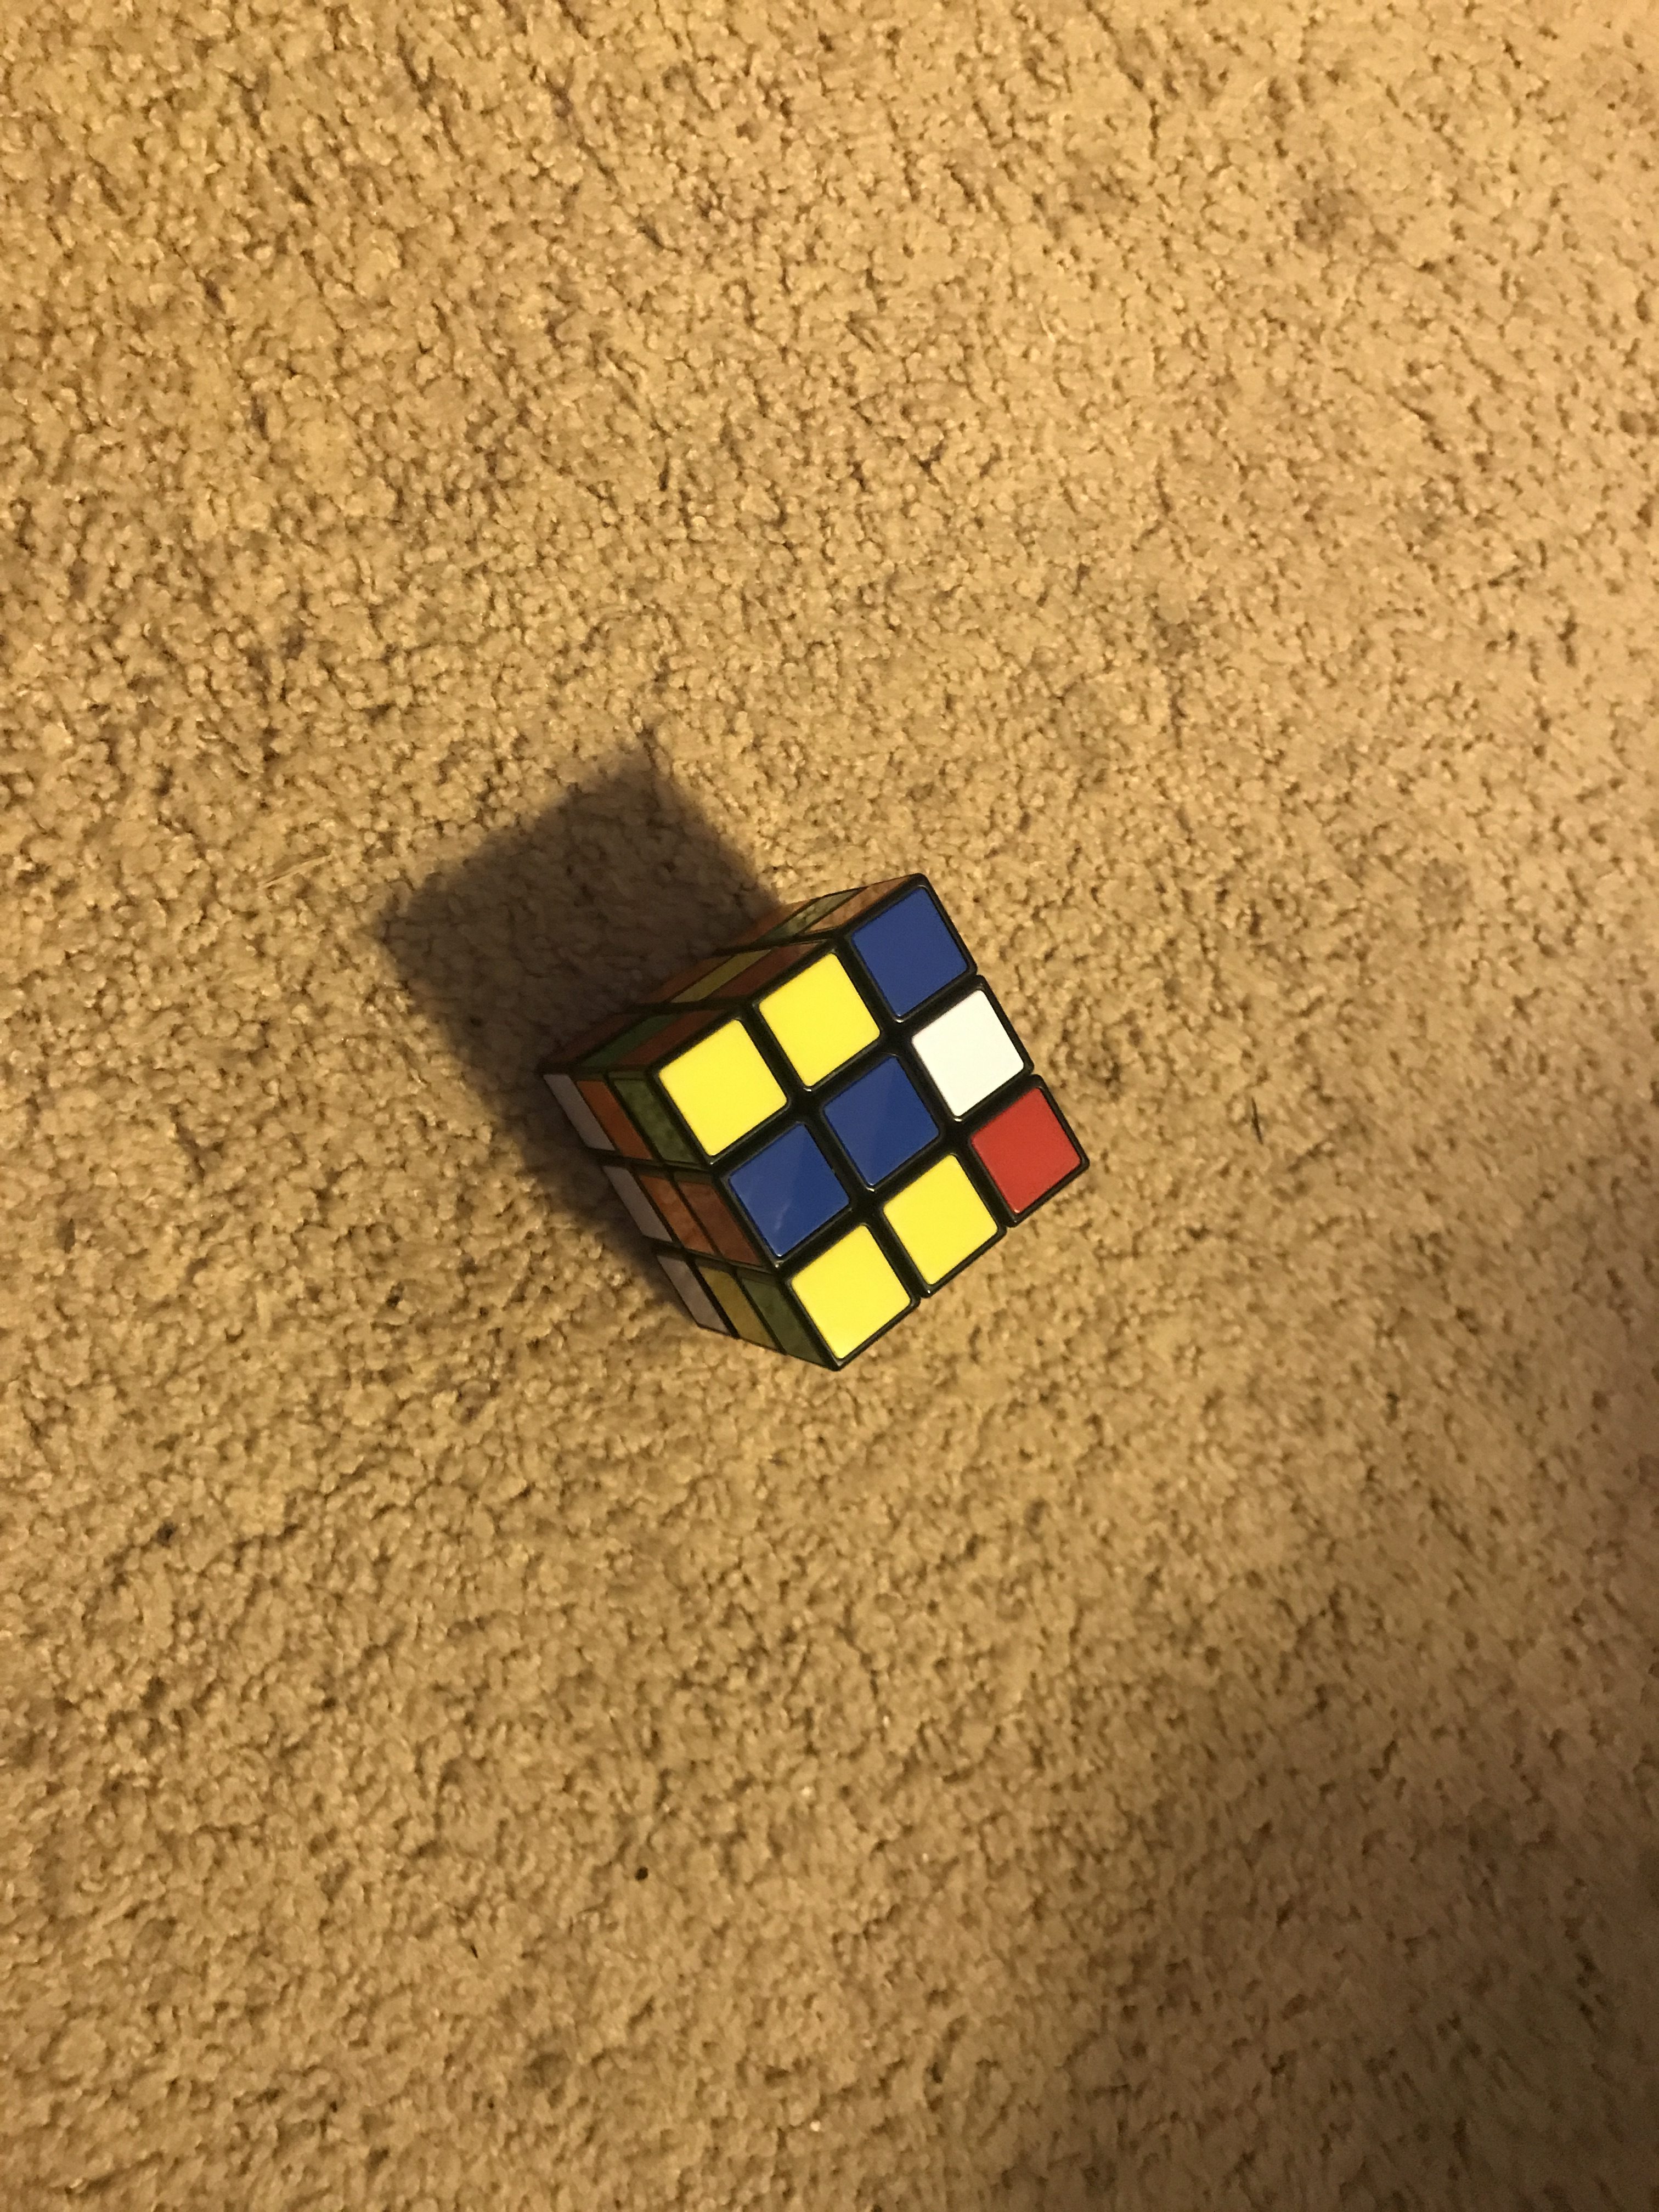rubiks: (540, 874, 1101, 1376)
